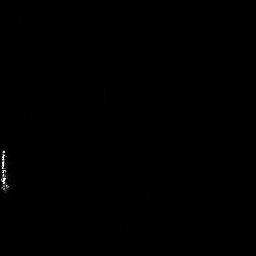ship: (1, 145, 12, 195)
